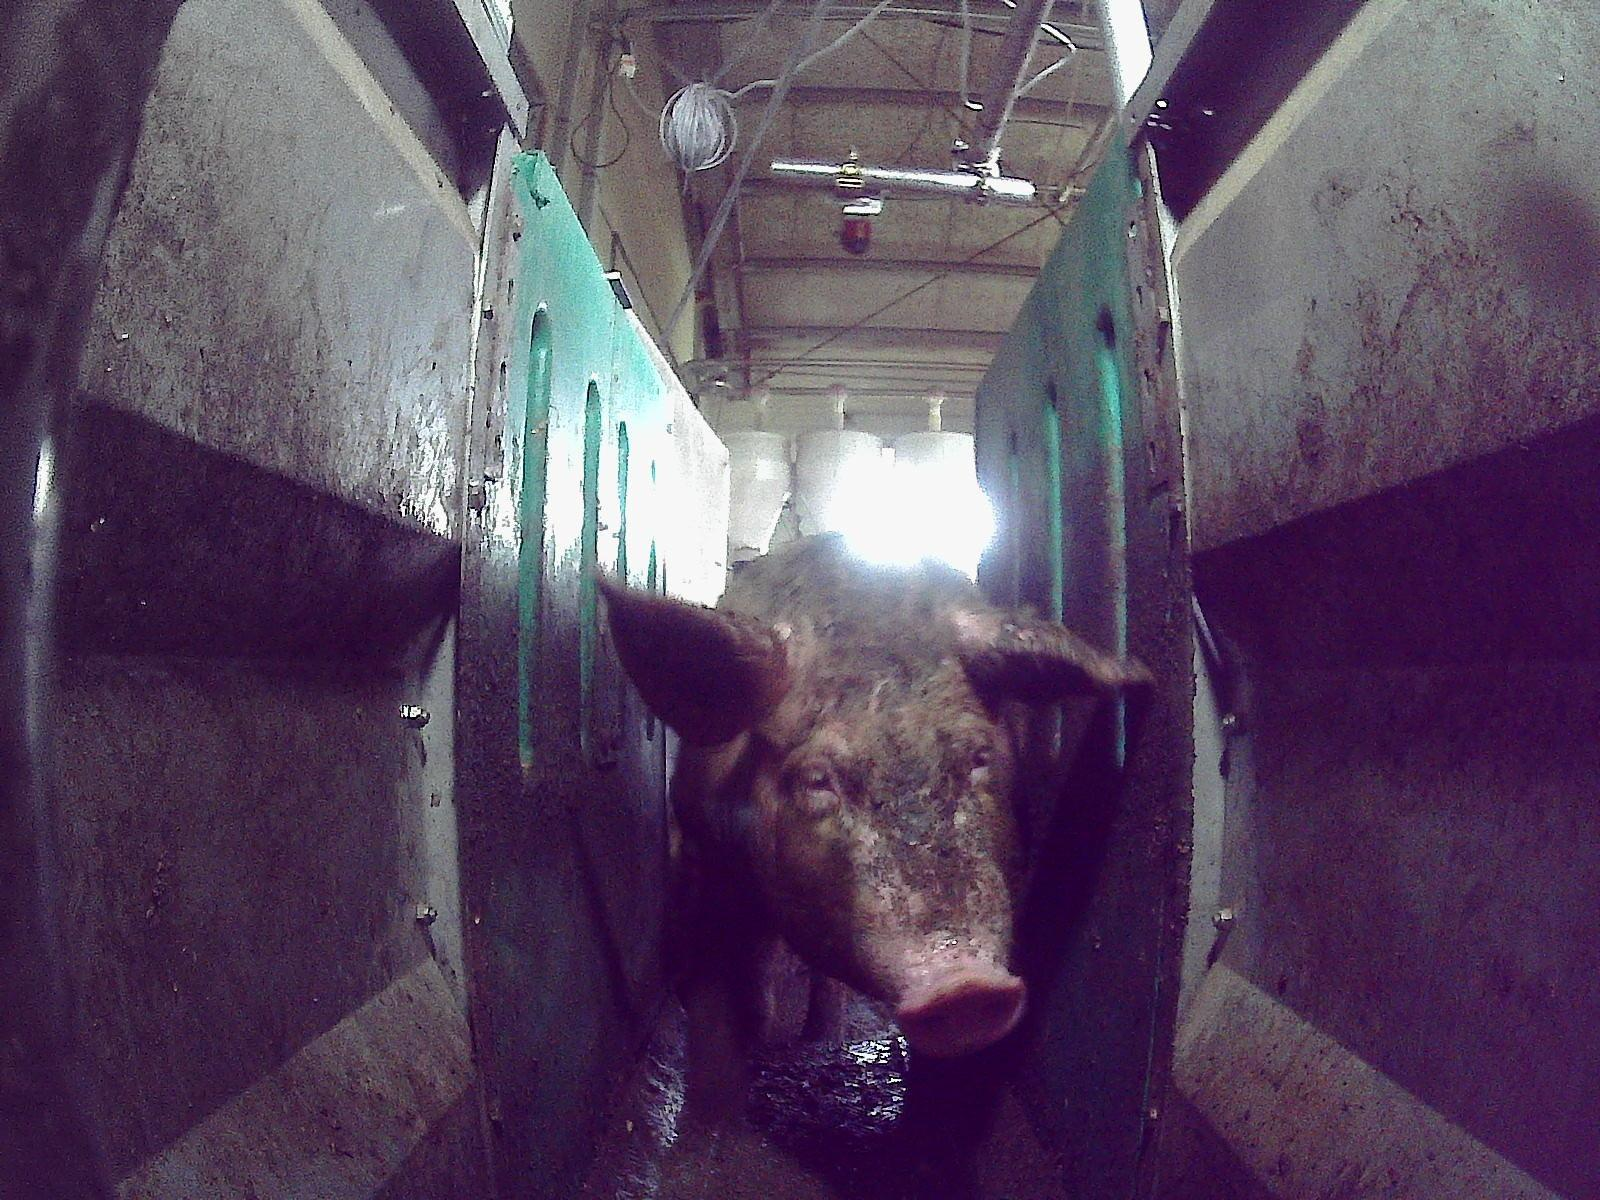Face: (743, 617, 1022, 1059)
